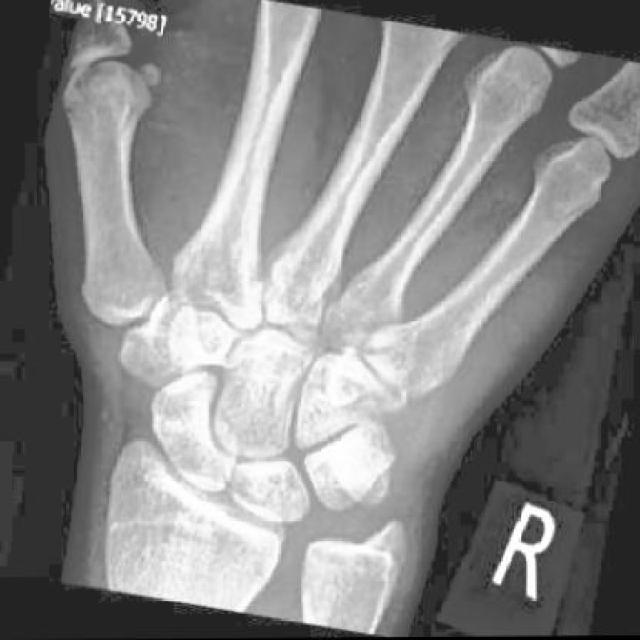Fracture: (322, 342, 401, 433)
